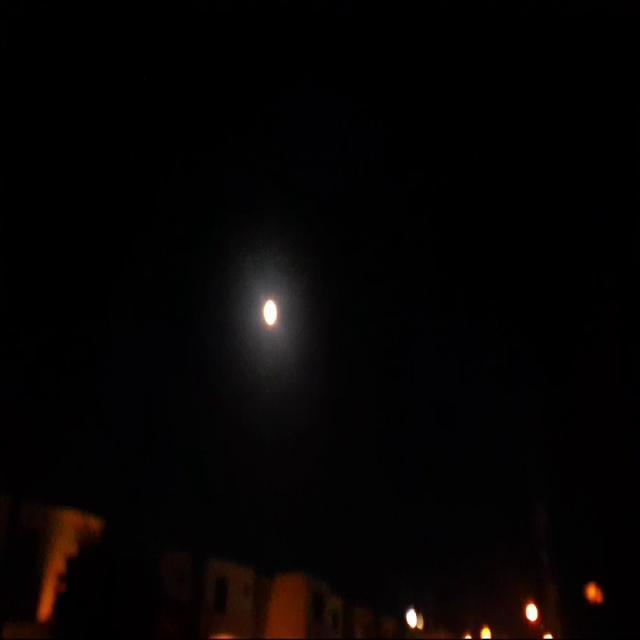moon: (252, 297, 274, 336)
